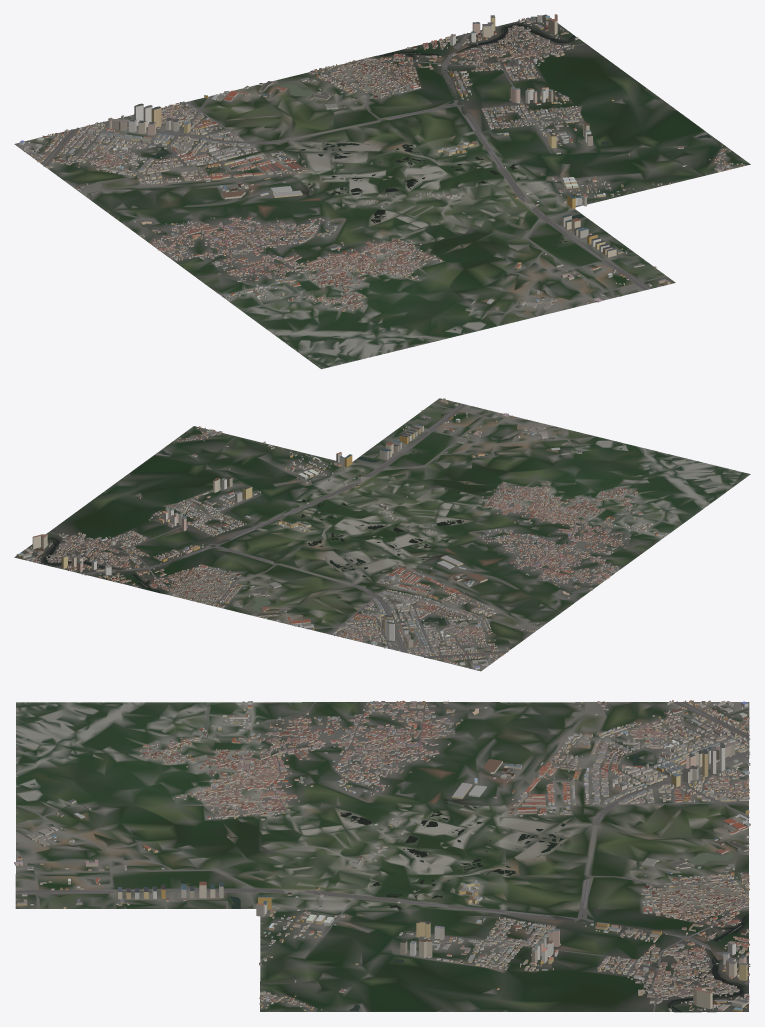
3 renders of one model, top to bottom at view 1: azimuth 30°, elevation 25°; view 2: azimuth 150°, elevation 25°; view 3: azimuth 270°, elevation 25°, orthographic. The views are drawn at different scales.
Parts seen in each view (by area): view 1: ground, buildings, roads, water; view 2: ground, buildings, roads, water; view 3: ground, buildings, roads, water.
Part boxes in pixels (box(x1,y1,x2,y2)): ground: box(14, 14, 750, 369); buildings: box(19, 14, 744, 311); roads: box(26, 26, 651, 310); water: box(151, 24, 711, 330); ground: box(14, 398, 750, 671); buildings: box(16, 398, 666, 669); roads: box(49, 403, 679, 663); water: box(43, 448, 621, 623); ground: box(15, 702, 749, 1012); buildings: box(14, 700, 750, 1011); roads: box(15, 701, 750, 1011); water: box(30, 755, 748, 1011).
Bounding box in the file's own units: 4215 × 151 × 4227.
